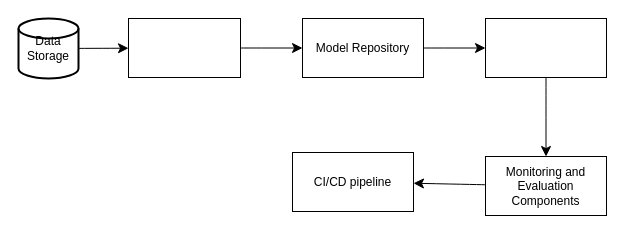
Some shapes in this 624 by 233 pixel diagram are drawn without their labels. Here are the shapes that lost their labels. From the top down, the centre of each, then its label:
At (184,48): "Model Training".
At (545,48): "Inference Service".
